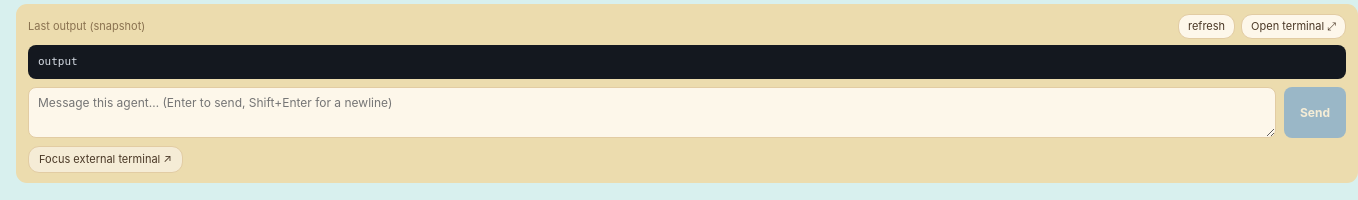
Test: AgentActions › raising the user's own terminal window › quotes herdr's own reason when it fails, instead of claiming success
The width and height of the screenshot is (1358, 200).
Expected: the text "output" is shown, [28,45,1346,79]
Click the button "Focus external terminal ↗" at [105, 159], box [28,146,183,173]
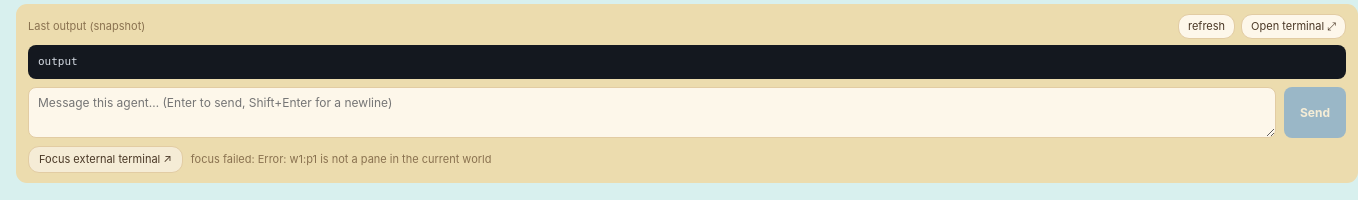
Result: the text "focus failed: Error: w1:p1 is not a pane in the current world" is shown at [191,151,492,168]
